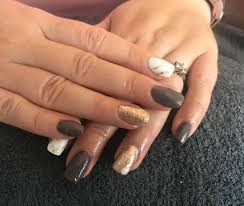nail: (65, 151, 92, 186), (112, 145, 138, 177), (151, 85, 184, 108), (117, 103, 150, 124), (147, 54, 175, 78), (56, 119, 85, 136), (174, 121, 191, 146), (46, 136, 68, 154)
